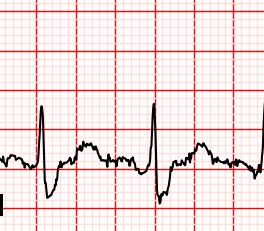ST Depression: (136, 160, 179, 207), (29, 159, 64, 200)
